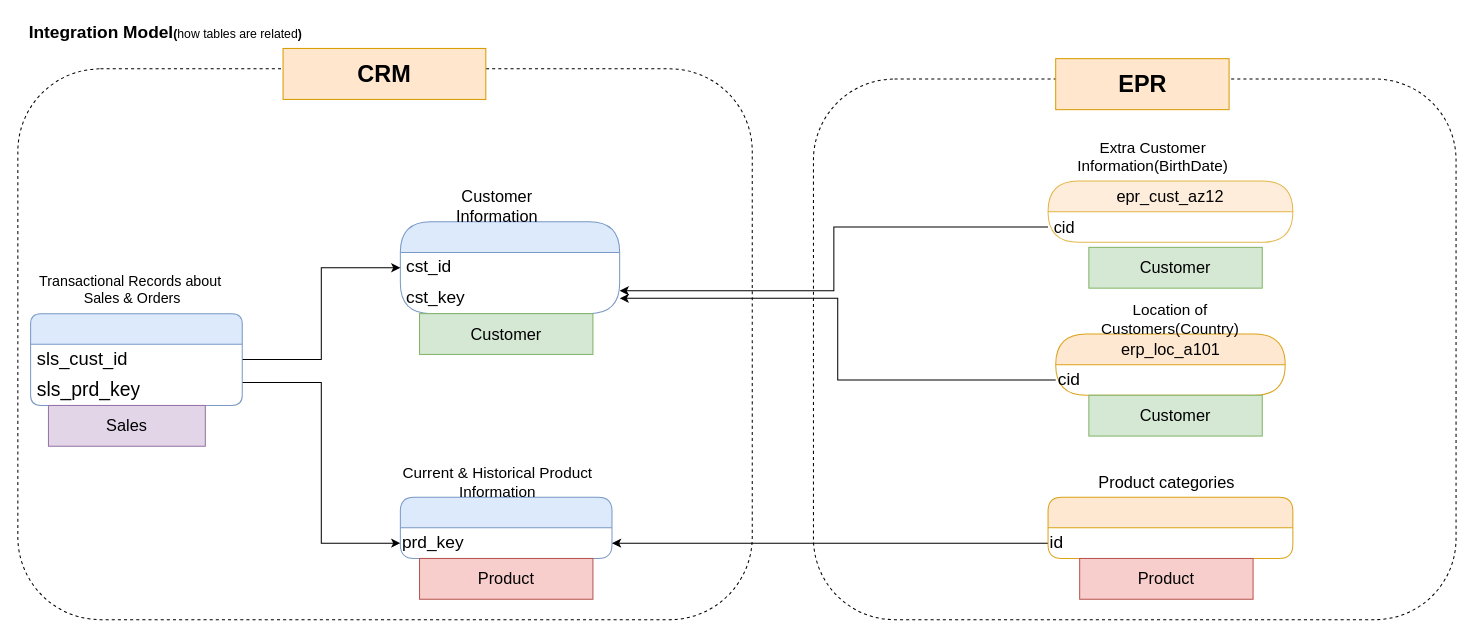
Some shapes in this 1474 by 638 pixel diagram are drawn without their labels. Here are the shapes that lost their labels. From the top down, the box of each, then its label:
(399, 221, 620, 314): crm_cust_info
(30, 313, 242, 405): crm_sales_details
(399, 496, 612, 558): crm_prd_info
(1047, 496, 1293, 558): epr_px_cat_g1v2
